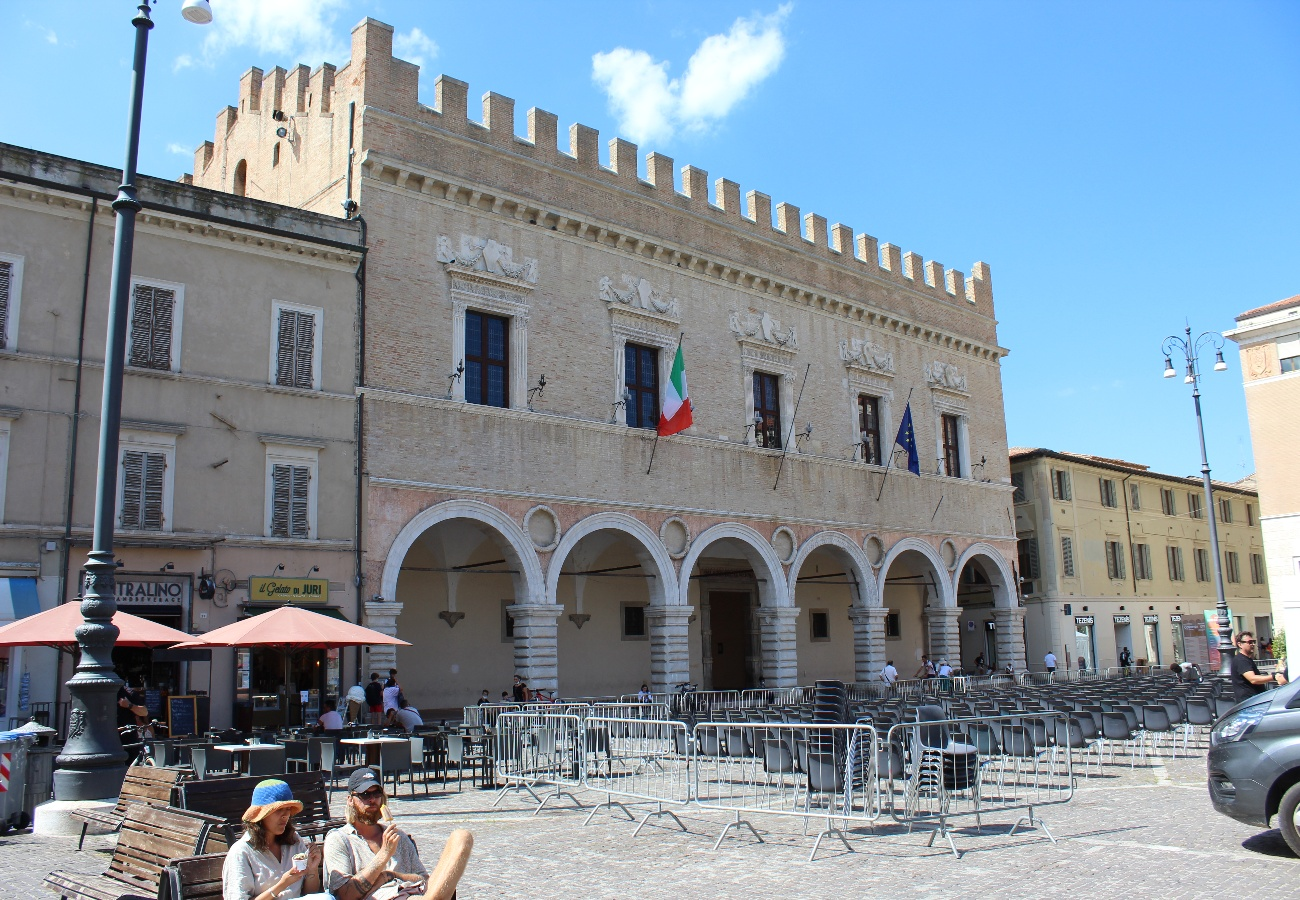Palazzo Ducale: (356, 11, 1030, 741)
